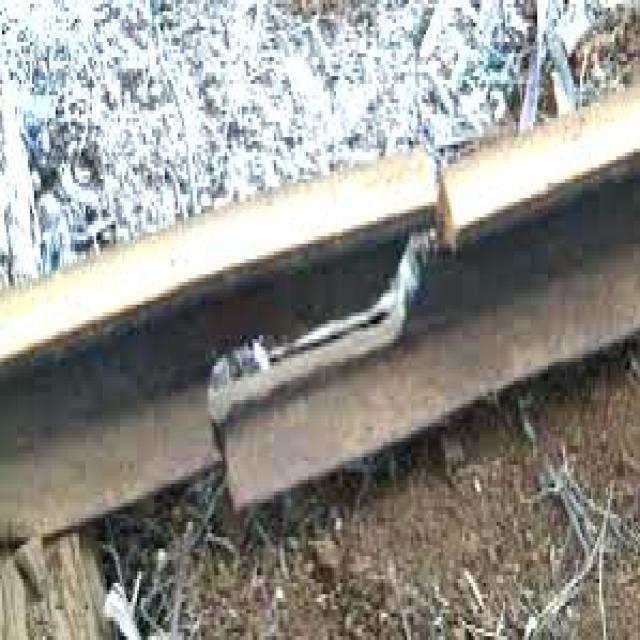broken_rail_high: (206, 174, 447, 502)
